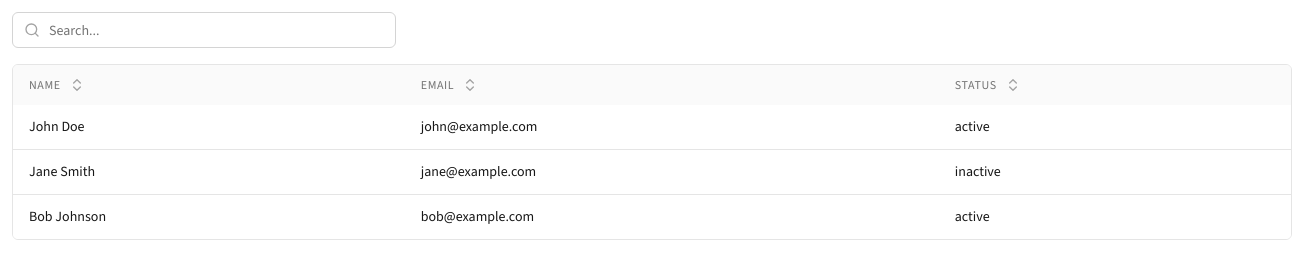
Scenario: DataTable › handles search functionality
Type "john" into the field with placeholder "Search..." at (204, 30), box [12, 12, 396, 48]
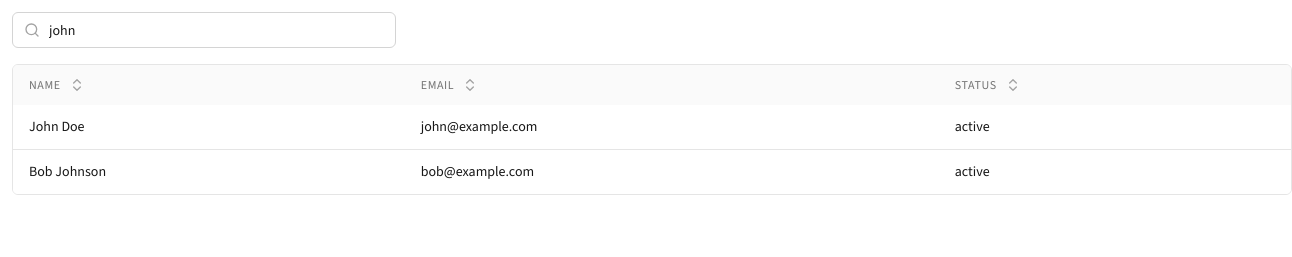
Expected: the text "John Doe" is shown, [13, 105, 405, 150]
Expected: the text "Jane Smith" is gone
